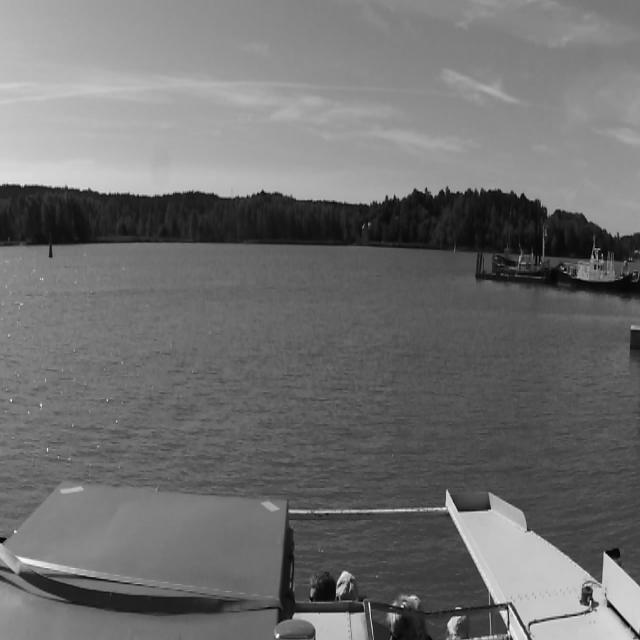buoy: (47, 238, 55, 266)
ship: (558, 240, 630, 294), (491, 246, 549, 276)
